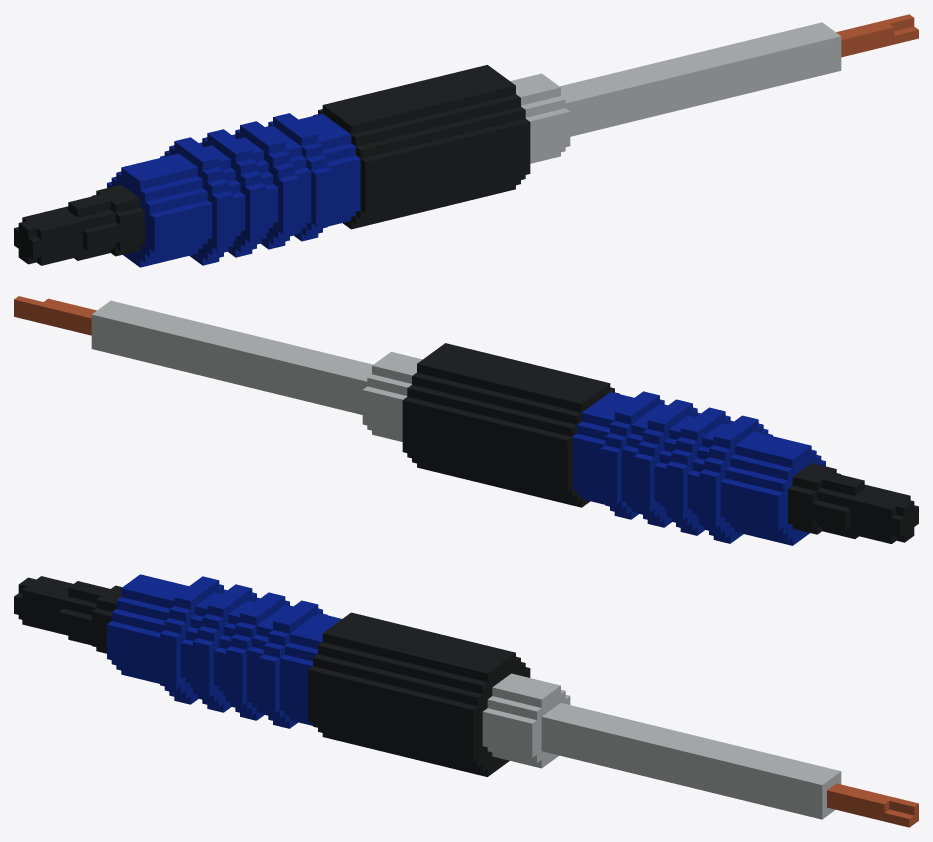
The model's file is soldering_iron.glb.
The picture shows the model from 3 angles, top to bottom: view 1: azimuth 30°, elevation 25°; view 2: azimuth 150°, elevation 25°; view 3: azimuth 330°, elevation 25°; orthographic projection.
Visible parts, largest first — view 1: soldering_iron:compound; view 2: soldering_iron:compound; view 3: soldering_iron:compound.
Boxes of the visible parts, x1,y1,x2,y2 form: soldering_iron:compound: [14, 14, 918, 267]; soldering_iron:compound: [14, 296, 918, 545]; soldering_iron:compound: [14, 574, 918, 827].
Size of the model in its own units: 0.216 by 0.024 by 0.024.
